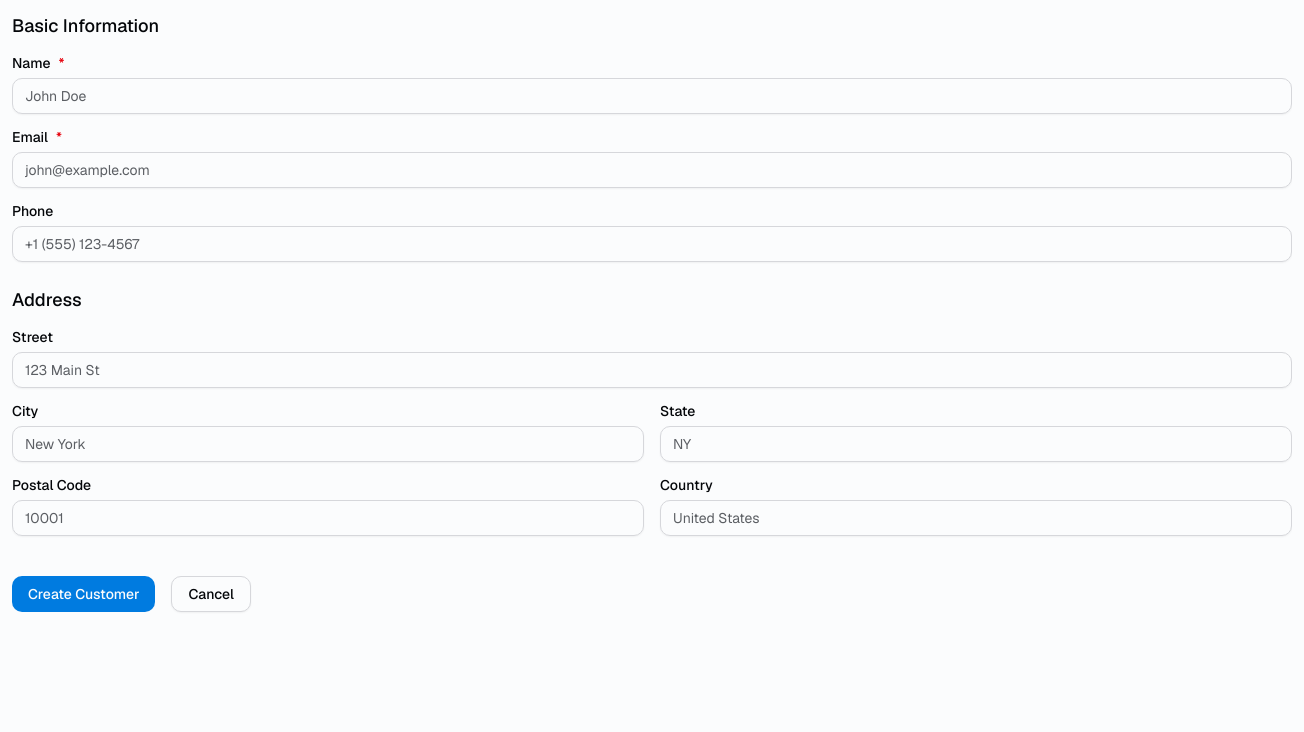
Scenario: CustomerForm Component › Create Mode › should validate required fields
Click the button "Create Customer" at (84, 594), box [12, 576, 155, 612]
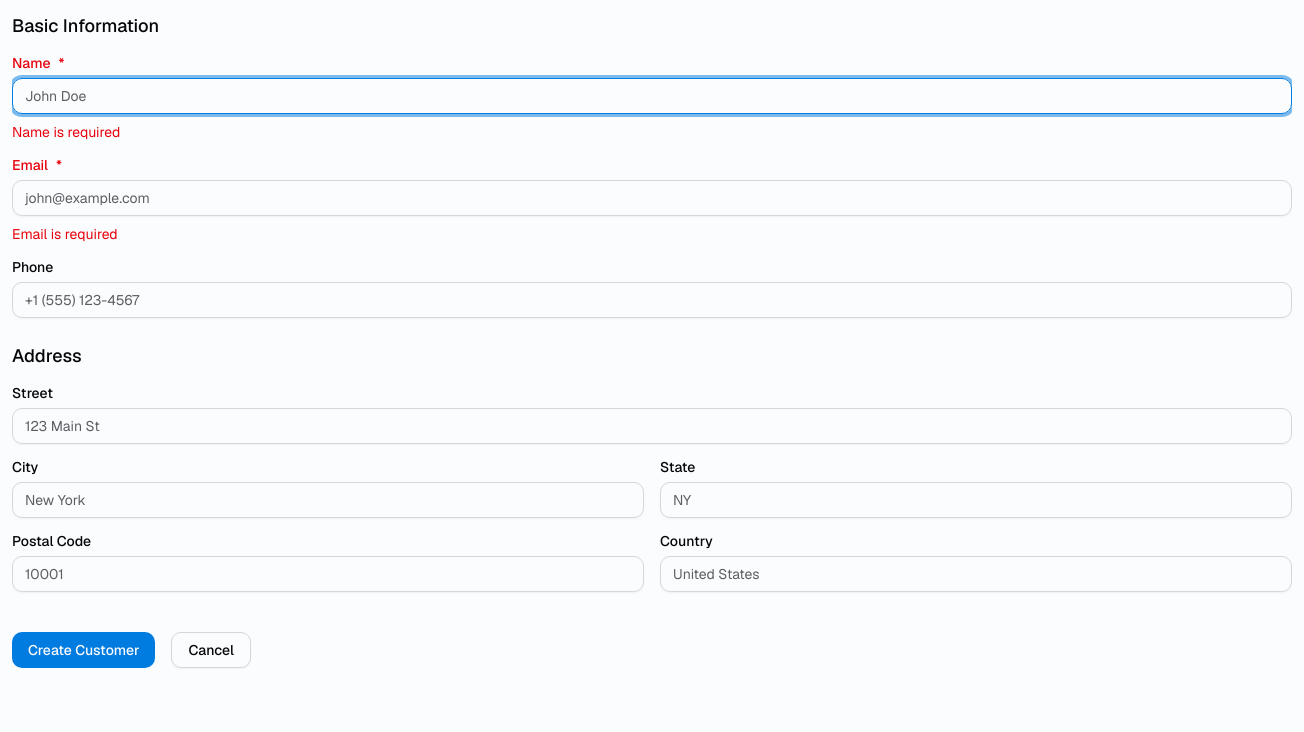
Now the text "Name is required" is shown, box [12, 123, 120, 141]
Now the text "Email is required" is shown, box [12, 225, 118, 243]
